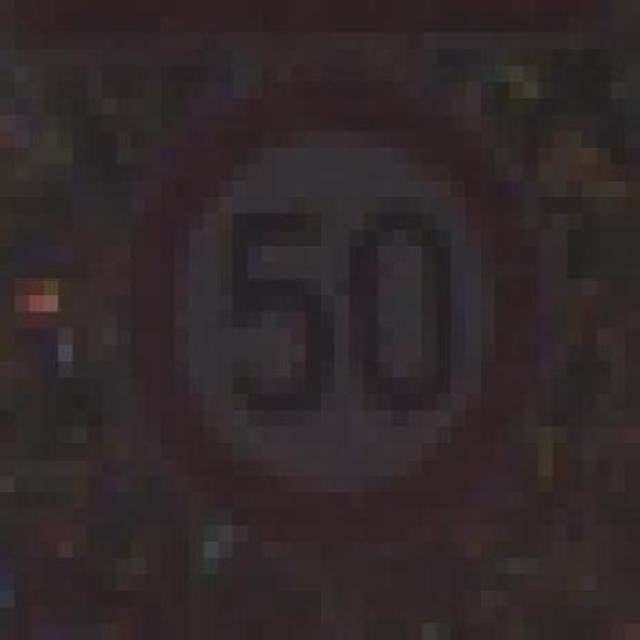forb_speed_over_50: (136, 65, 533, 557)
